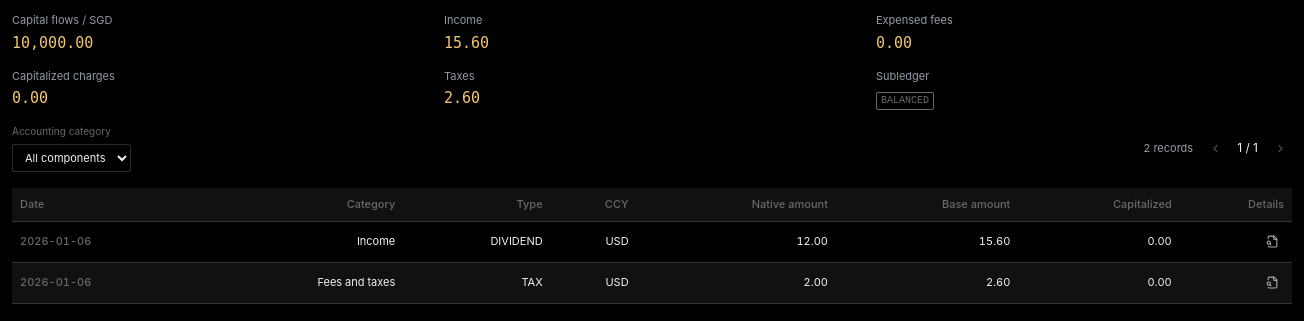
Test: accounting subledger controls › filters typed categories without changing the all-category totals
This screenshot has width=1304, height=321.
Select "Fees and taxes" in the dropdown labelled "Accounting category" at (72, 158), box [12,144,131,172]
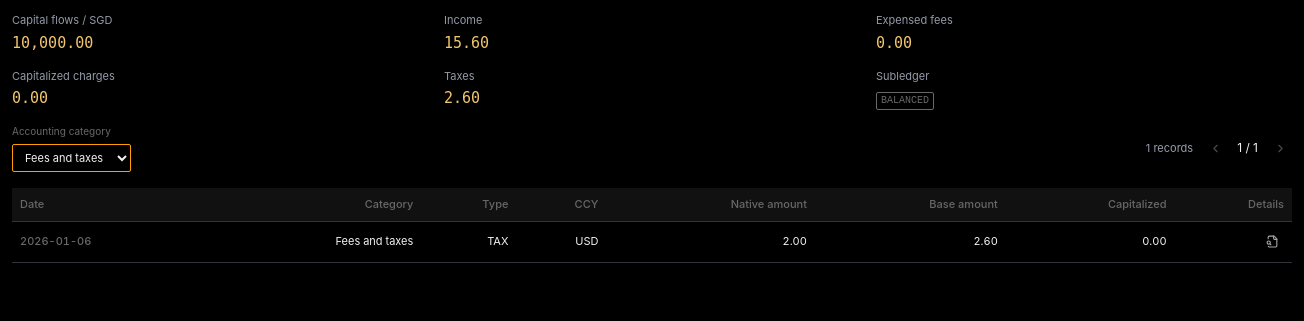
Expected: the text "TAX" is shown, [421,221,516,262]
Now the text "DIVIDEND" is gone
Now the text "1 records" is shown, box [1146,140,1193,156]
